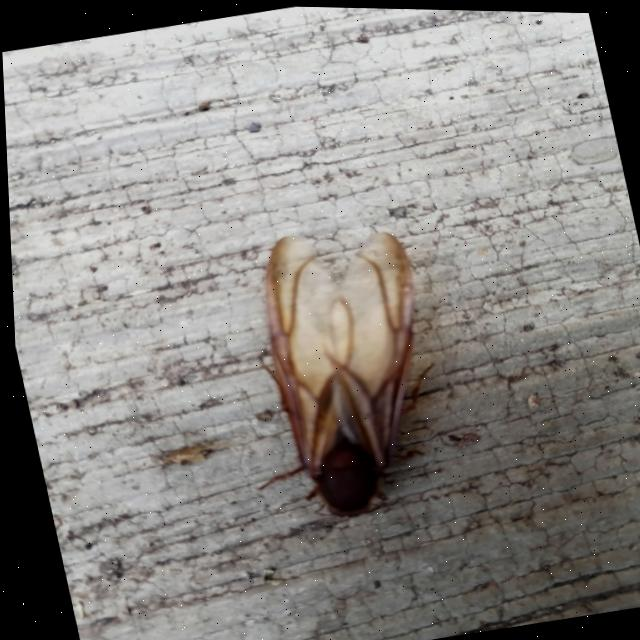Alive-Female-Alate: (200, 211, 467, 530)
